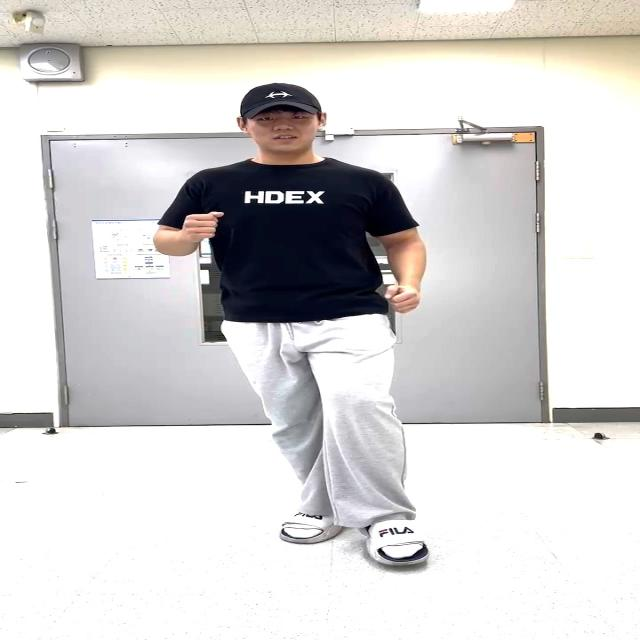leg: (322, 326, 420, 566)
